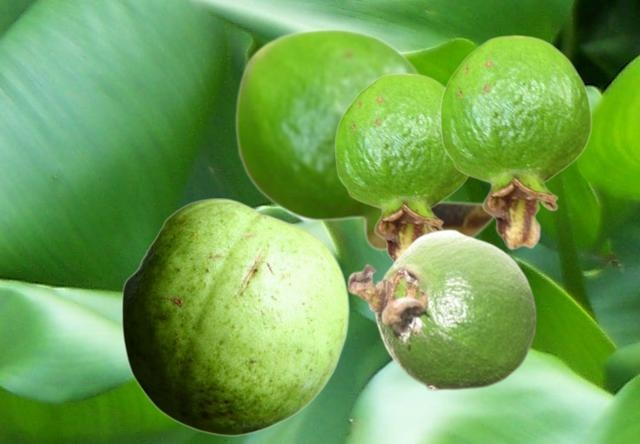guava: (234, 27, 494, 252), (121, 198, 348, 435), (439, 34, 591, 249), (346, 228, 537, 390), (334, 72, 469, 261)
